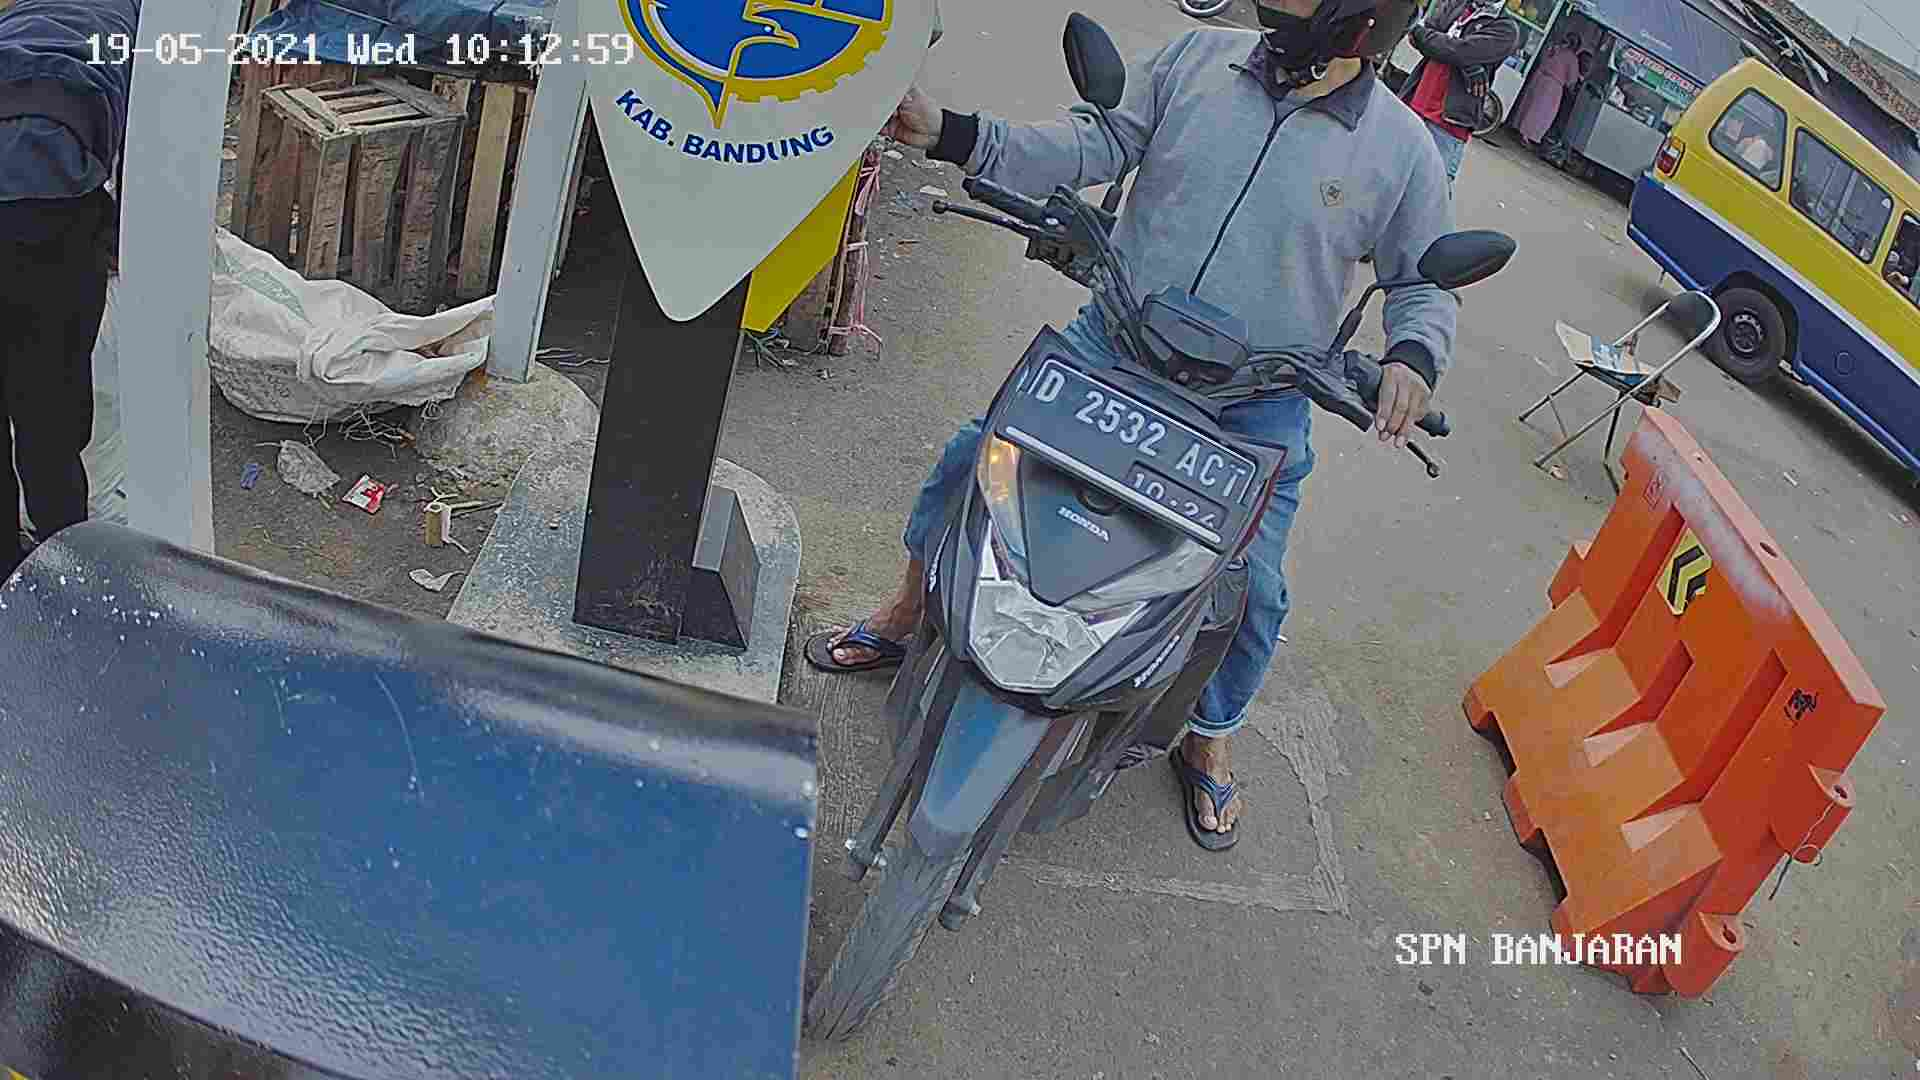motor: (833, 178, 1342, 1080)
